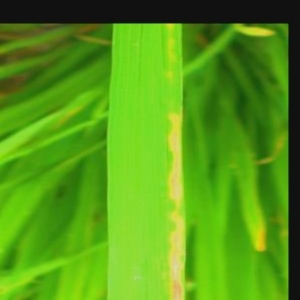Leaf_Blast: (103, 24, 189, 300)
